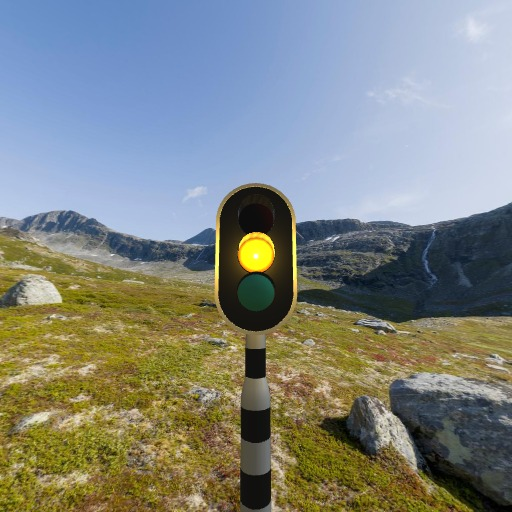Yellow_Light: (211, 180, 299, 333)
